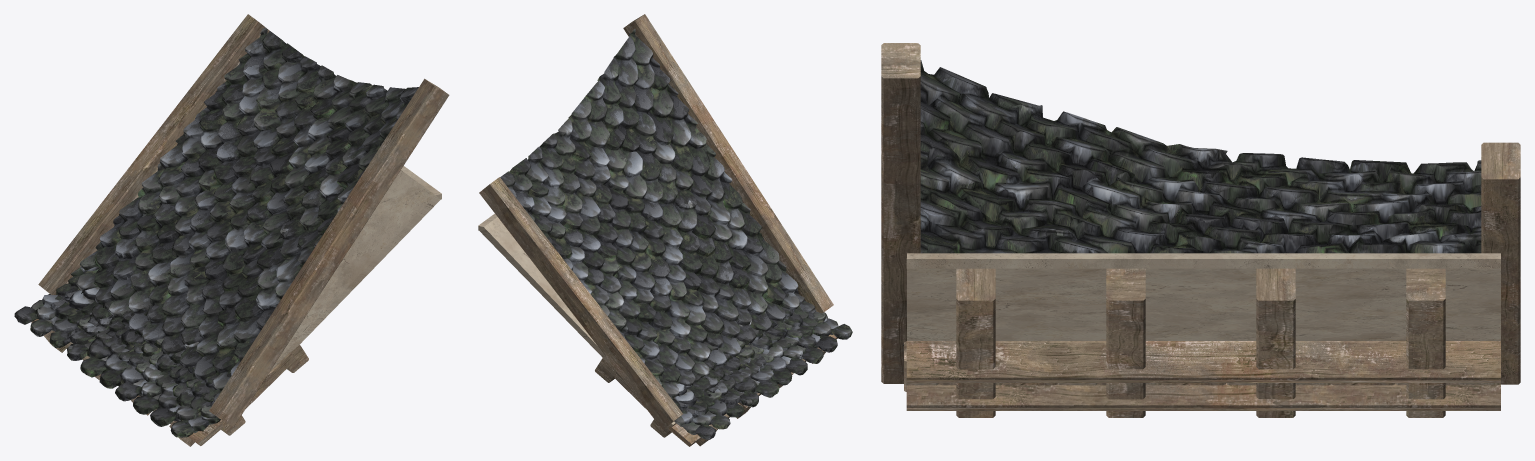
The model's file is SM_Roof_A_05.fbx.
3 renders of one model, left to right at view 1: azimuth 30°, elevation 25°; view 2: azimuth 150°, elevation 25°; view 3: azimuth 270°, elevation 25°, orthographic. The views are drawn at different scales.
Parts seen in each view (by area): view 1: SM_Roof_A_05_LOD0; view 2: SM_Roof_A_05_LOD0; view 3: SM_Roof_A_05_LOD0.
Boxes of the visible parts, left/top/right/bottom form: SM_Roof_A_05_LOD0: left=14, top=14, right=449, bottom=446; SM_Roof_A_05_LOD0: left=478, top=14, right=852, bottom=446; SM_Roof_A_05_LOD0: left=881, top=43, right=1520, bottom=417.
Bounding box in the file's own units: 370 × 426 × 416.
